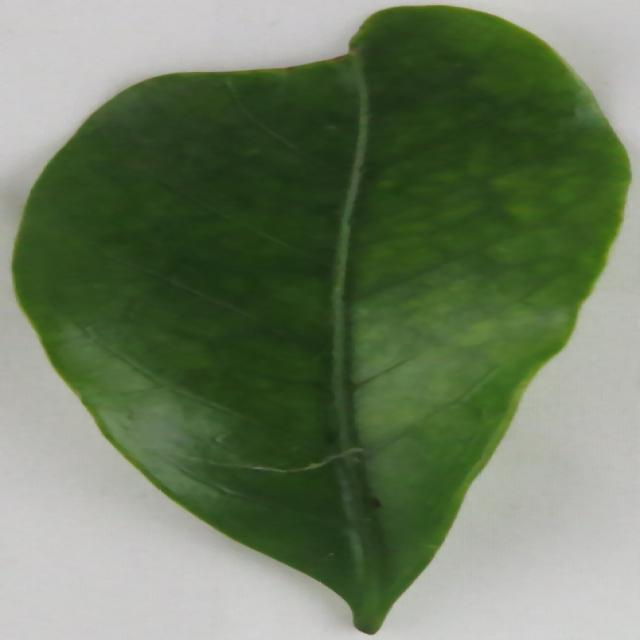DeficienciaNutricional-Boro: (10, 1, 633, 627)
